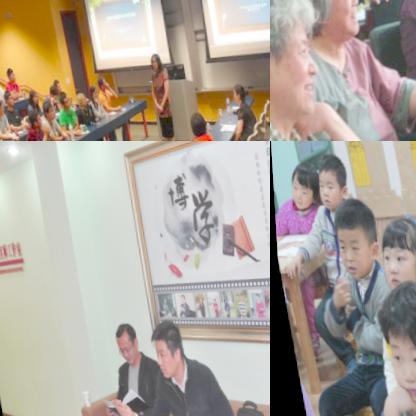head: (270, 0, 325, 141), (366, 280, 416, 402), (326, 197, 383, 282), (284, 0, 361, 51), (371, 217, 416, 293), (140, 316, 187, 380), (309, 155, 349, 210), (107, 319, 144, 370), (286, 163, 318, 211), (185, 110, 206, 140), (23, 110, 42, 134), (36, 98, 52, 123), (227, 82, 244, 105), (56, 88, 70, 112), (71, 89, 86, 109), (145, 49, 158, 72), (93, 73, 106, 95), (84, 85, 97, 103), (43, 83, 55, 101), (47, 75, 59, 93), (23, 88, 36, 104), (0, 88, 11, 106), (2, 68, 14, 84)
